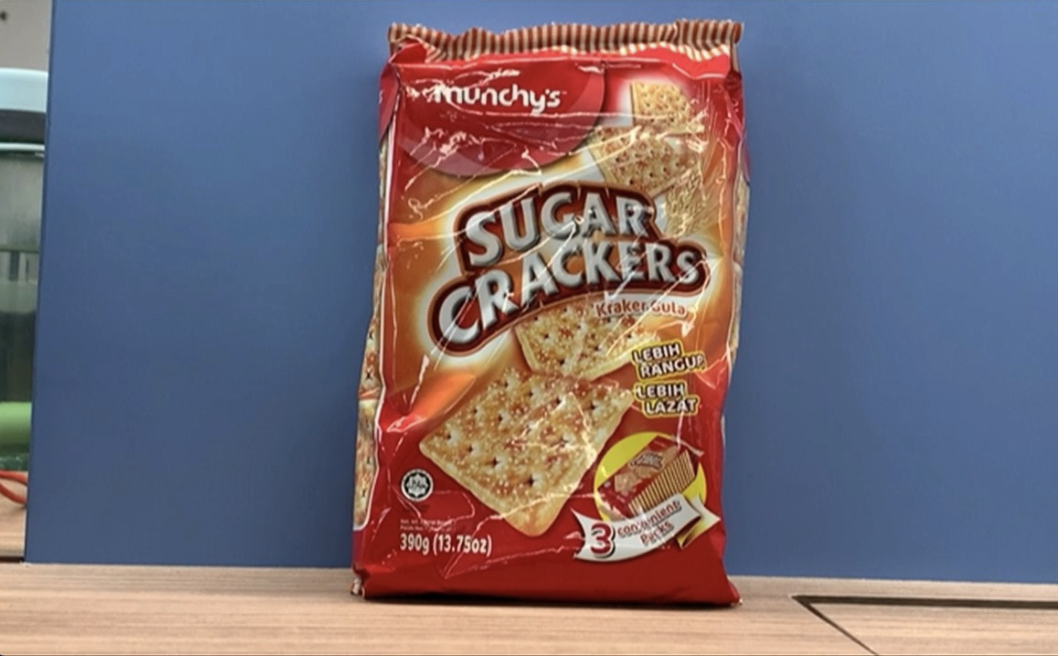crackers_150g: (392, 67, 721, 564)
